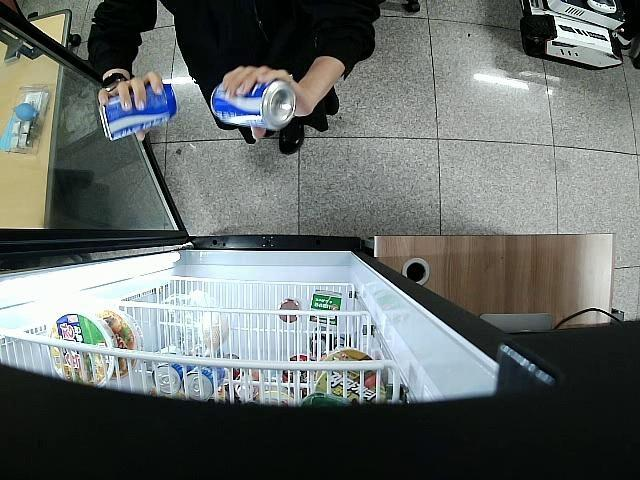13_pocariSweat: (99, 82, 180, 141), (210, 80, 296, 130)
